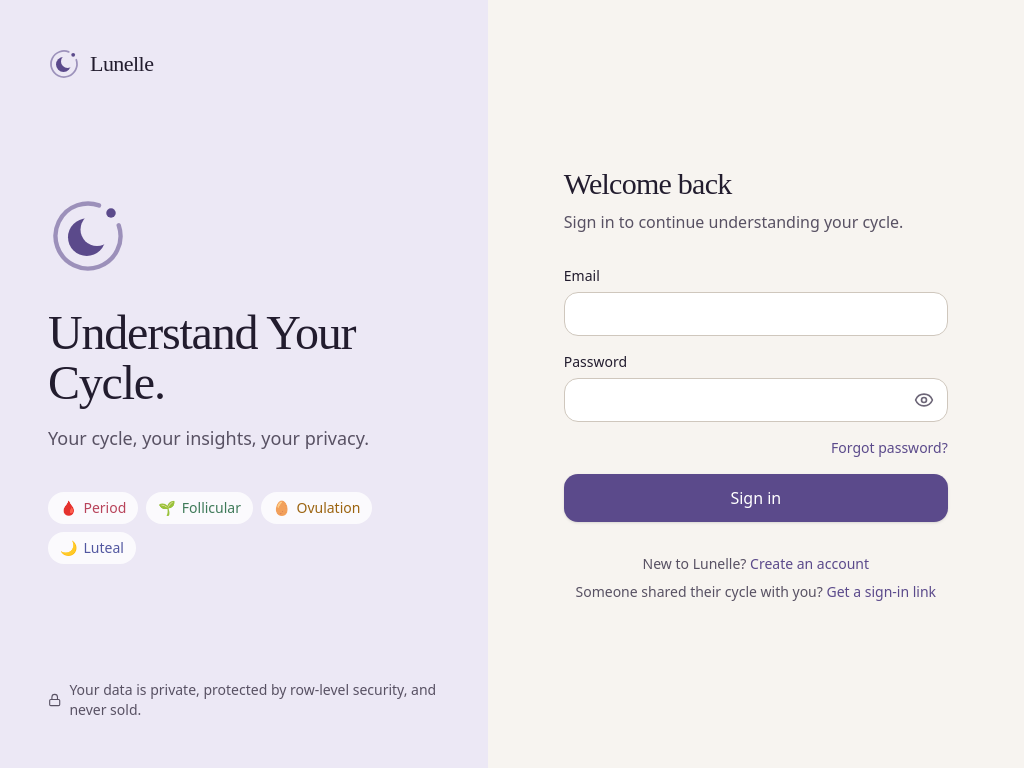
login › shows a friendly message for wrong credentials
Type "sam@example.com" into the field labelled "Email" at (756, 314), box [564,292,948,336]
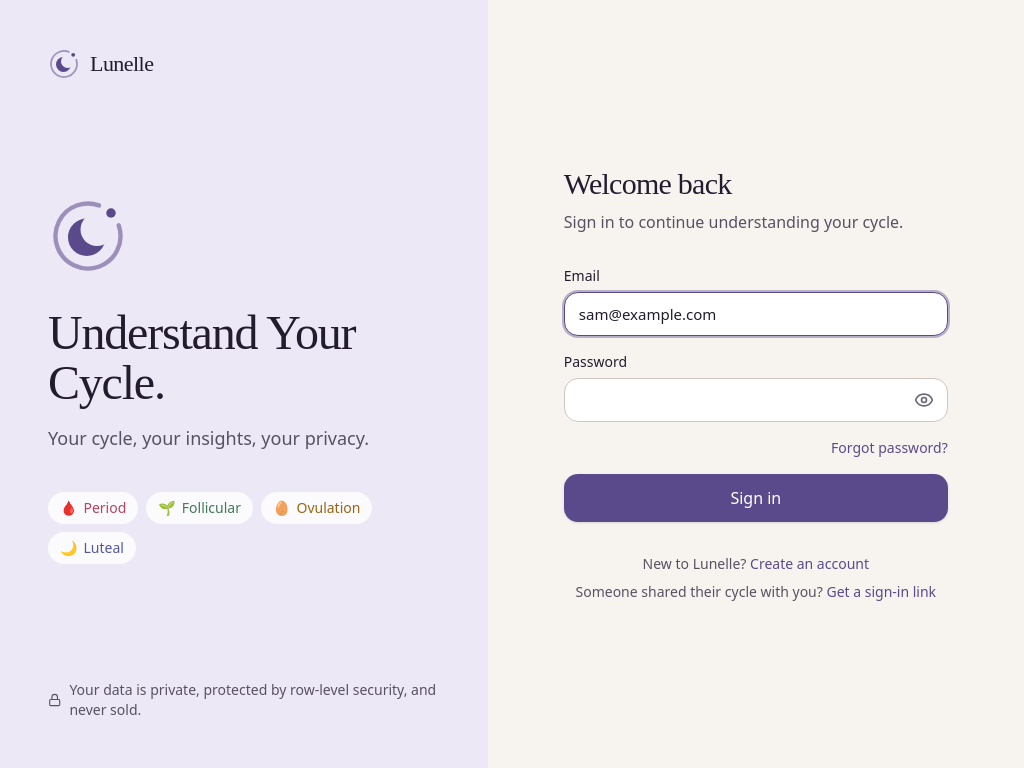
Type "wrong" into the password field labelled "Password" at (756, 400), box [564,378,948,422]
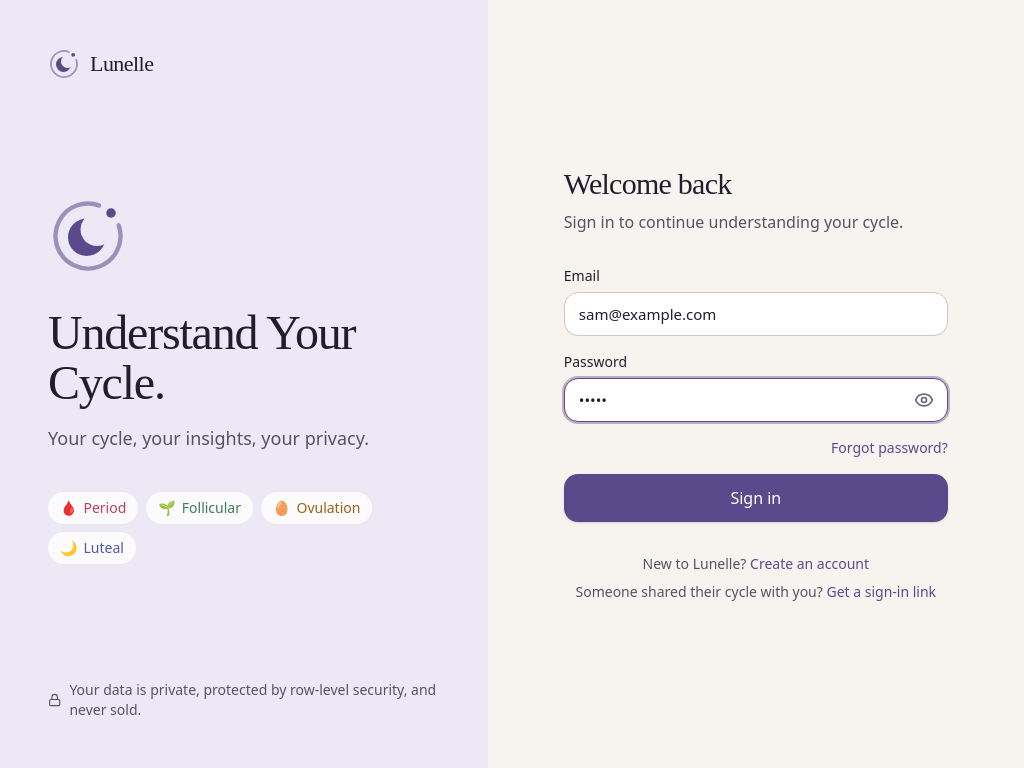
Click the button "Sign in" at (756, 498), box [564,474,948,522]
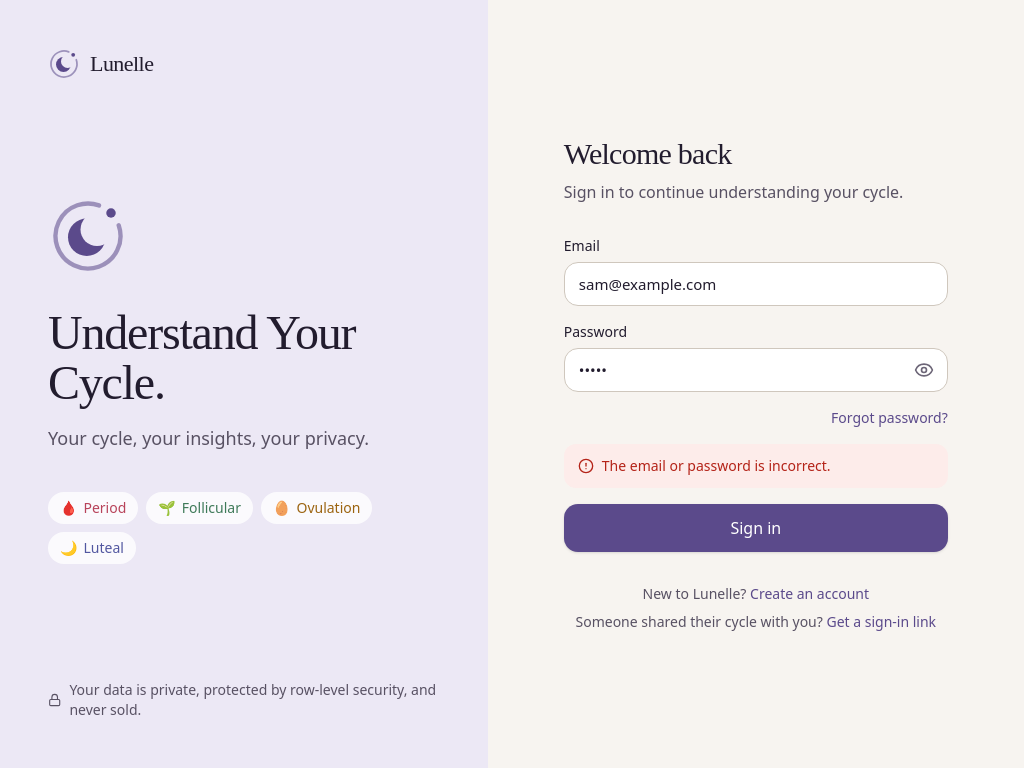
Expected: the text "The email or password is incorrect." is shown, [602,456,831,476]
